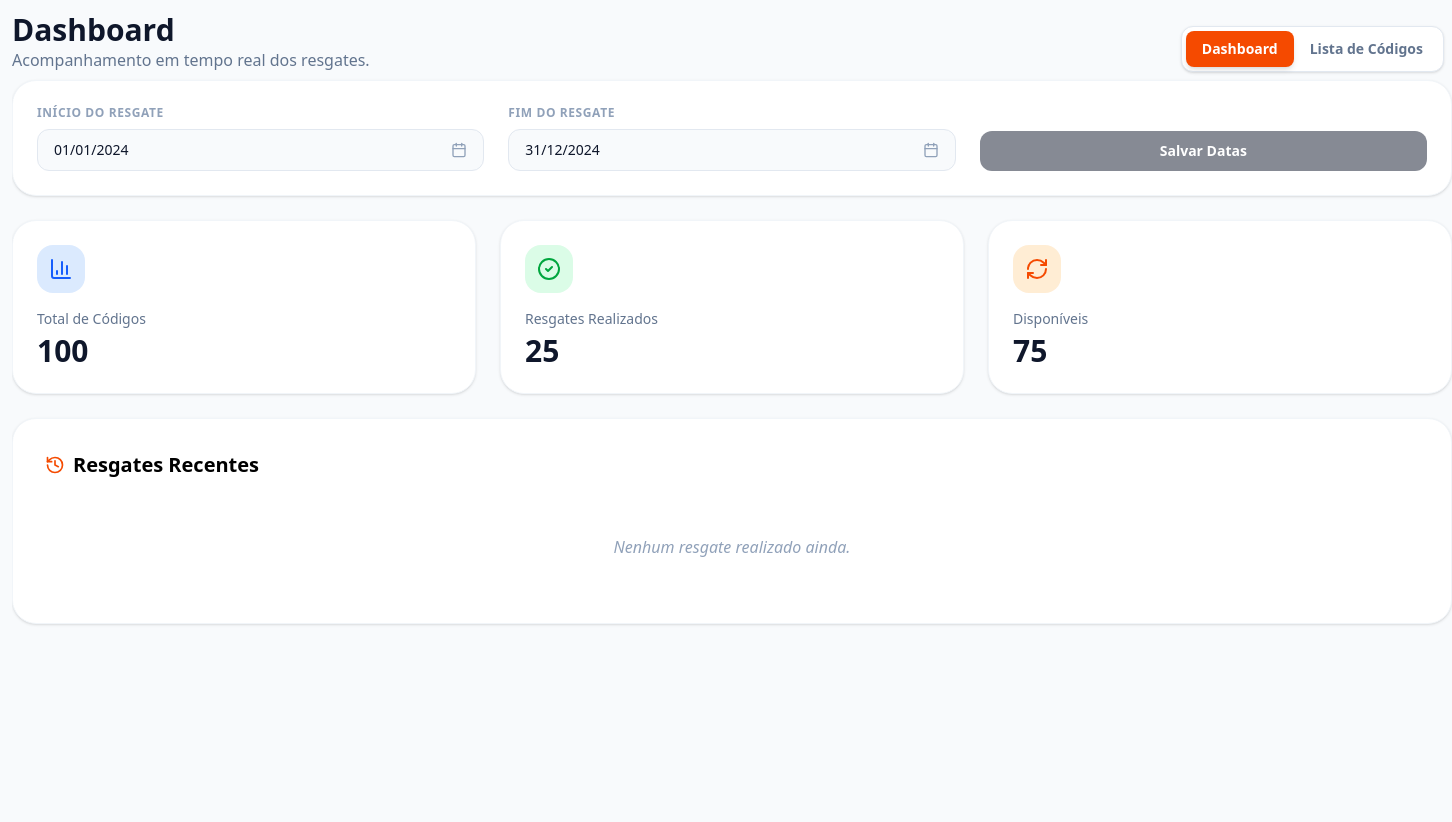
Test: AdminView › switches to codes view and fetches codes
The image size is (1452, 822).
Click the button "Lista de Códigos". click: (1366, 49)
box: 1294,31 -> 1439,67
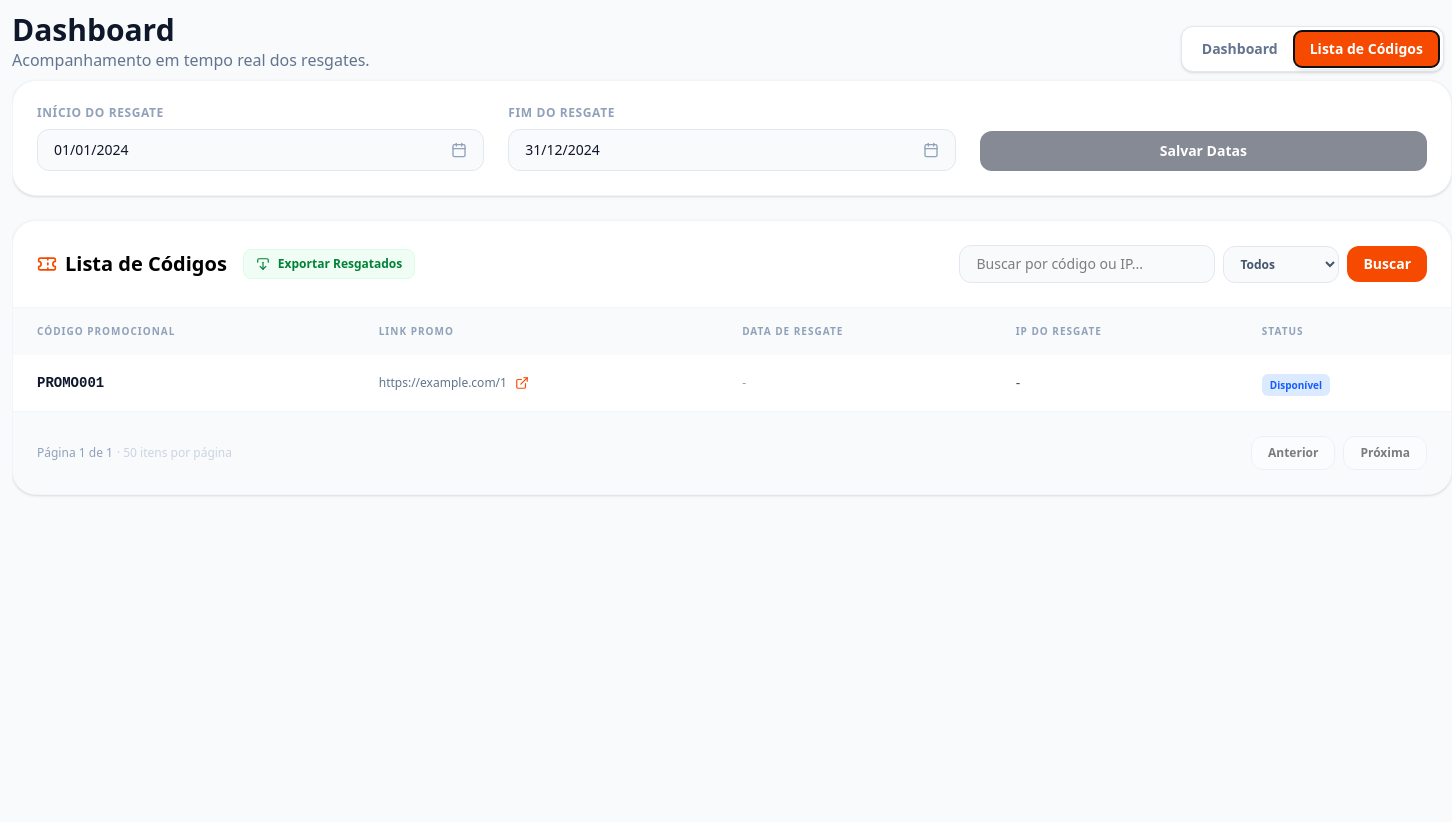
Expected: the text "PROMO001" is shown, 13,355 -> 355,411
